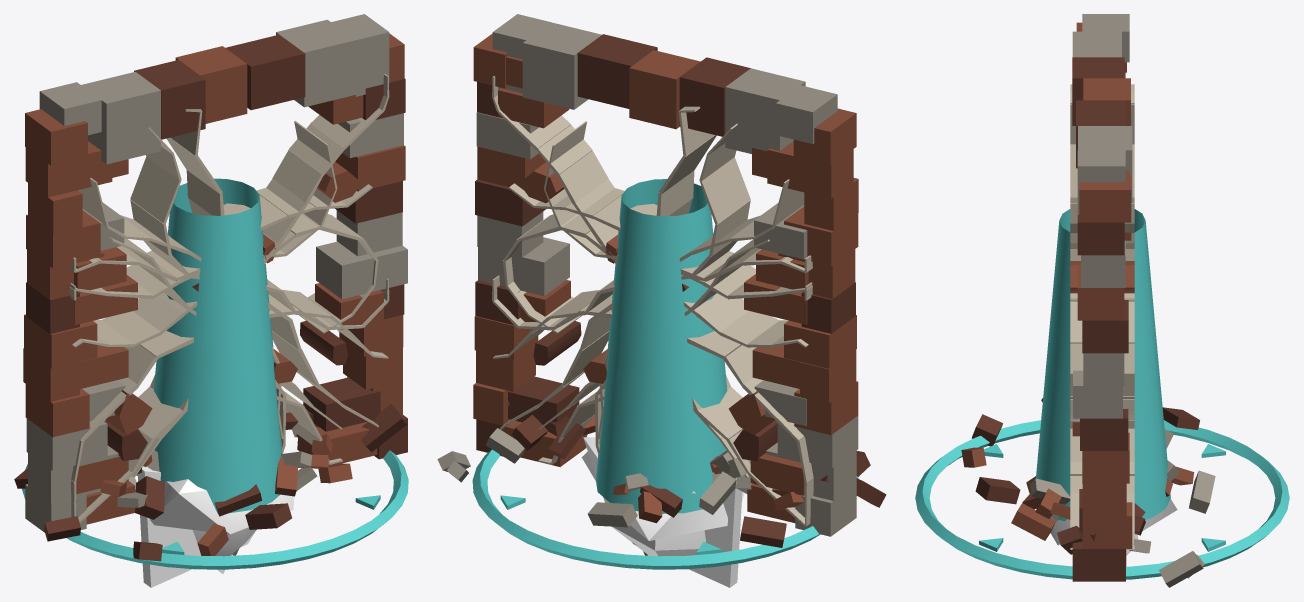
File: effects.glb
3 renders of one model, left to right at view 1: azimuth 30°, elevation 25°; view 2: azimuth 150°, elevation 25°; view 3: azimuth 270°, elevation 25°, orthographic. The views are drawn at different scales.
Visible parts, largest first — view 1: breach_rim, breach_cracks_b, marker_beam, breach_rubble, breach_cracks_a, marker_ring, debris_chip, debris_shard, debris_splinter; view 2: breach_rim, breach_cracks_b, marker_beam, breach_rubble, breach_cracks_a, marker_ring, debris_chip, debris_shard, debris_splinter; view 3: breach_rim, marker_beam, marker_ring, breach_rubble, breach_cracks_b, breach_cracks_a, debris_chip.
Boxes of the visible parts, bbox=[...] form: breach_rim: bbox=[23, 14, 407, 532]; breach_cracks_b: bbox=[69, 74, 389, 522]; marker_beam: bbox=[153, 178, 281, 513]; breach_rubble: bbox=[14, 399, 406, 561]; breach_cracks_a: bbox=[108, 109, 372, 477]; marker_ring: bbox=[22, 450, 408, 569]; debris_chip: bbox=[150, 437, 297, 534]; debris_shard: bbox=[137, 466, 254, 587]; debris_splinter: bbox=[193, 527, 256, 556]; breach_rim: bbox=[473, 14, 858, 536]; breach_cracks_b: bbox=[492, 76, 813, 526]; marker_beam: bbox=[596, 179, 727, 513]; breach_rubble: bbox=[437, 401, 886, 547]; breach_cracks_a: bbox=[508, 106, 769, 477]; marker_ring: bbox=[472, 449, 858, 569]; debris_chip: bbox=[583, 437, 744, 540]; debris_shard: bbox=[581, 451, 742, 587]; debris_splinter: bbox=[612, 525, 706, 556]; breach_rim: bbox=[1072, 14, 1132, 581]; marker_beam: bbox=[1036, 209, 1170, 521]; marker_ring: bbox=[915, 420, 1289, 579]; breach_rubble: bbox=[961, 398, 1215, 587]; breach_cracks_b: bbox=[1070, 84, 1134, 549]; breach_cracks_a: bbox=[1070, 92, 1134, 300]; debris_chip: bbox=[1050, 499, 1177, 545].
Size of the model in its own units: 2.33 by 3 by 2.08.
